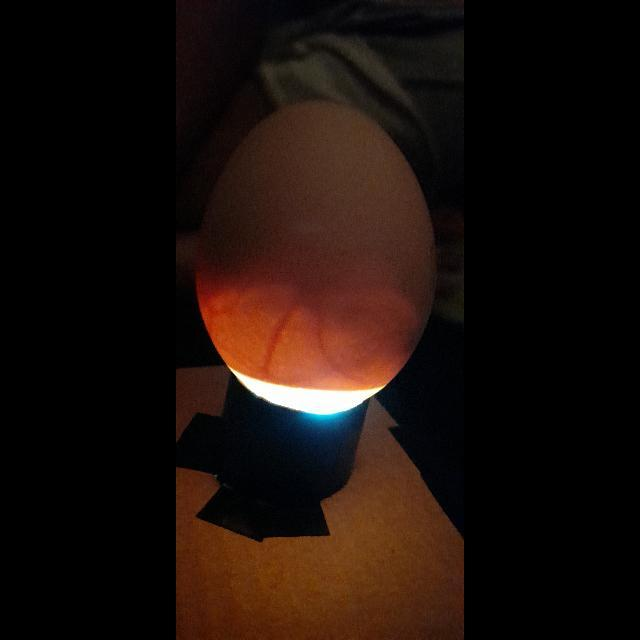Fertile: (198, 93, 434, 409)
